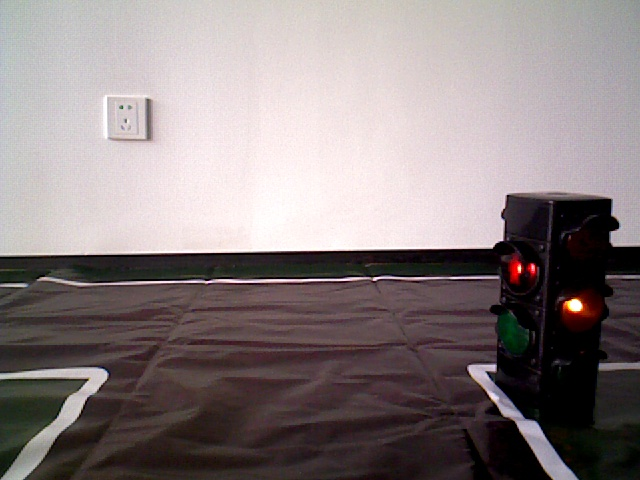yellow: (507, 196, 606, 411)
